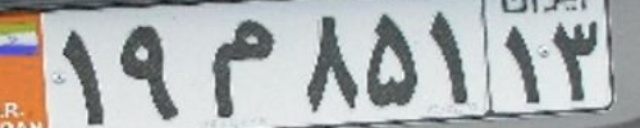1: (62, 29, 106, 124), (426, 10, 466, 102), (500, 23, 539, 102)
3: (553, 20, 599, 101)
5: (363, 13, 419, 106)
8: (309, 14, 358, 109)
9: (119, 24, 179, 118)
mim: (210, 18, 275, 117)
